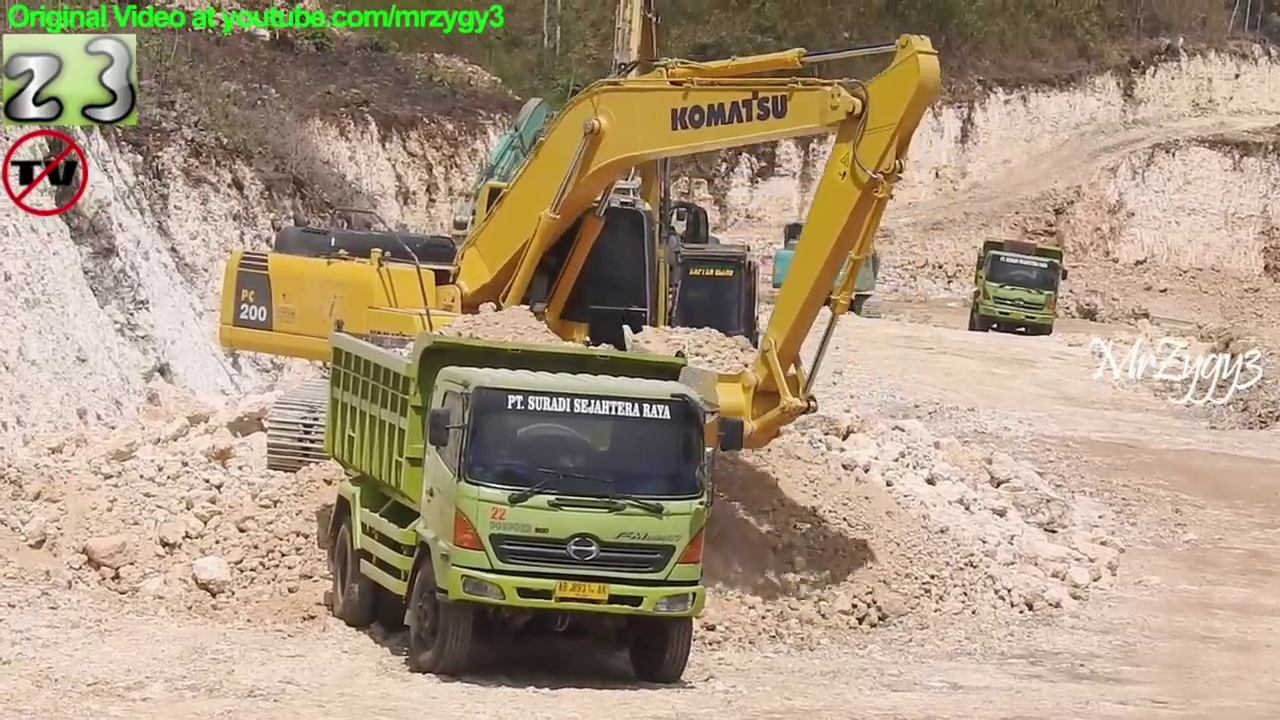excavator: (216, 30, 948, 474), (414, 1, 775, 469), (768, 183, 884, 324)
truck: (322, 320, 754, 688), (968, 231, 1072, 341)
